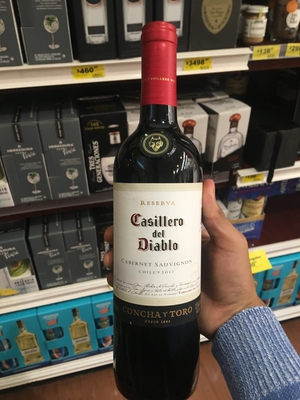casillero del diablo cabernet sauvignon: (108, 35, 209, 383)
